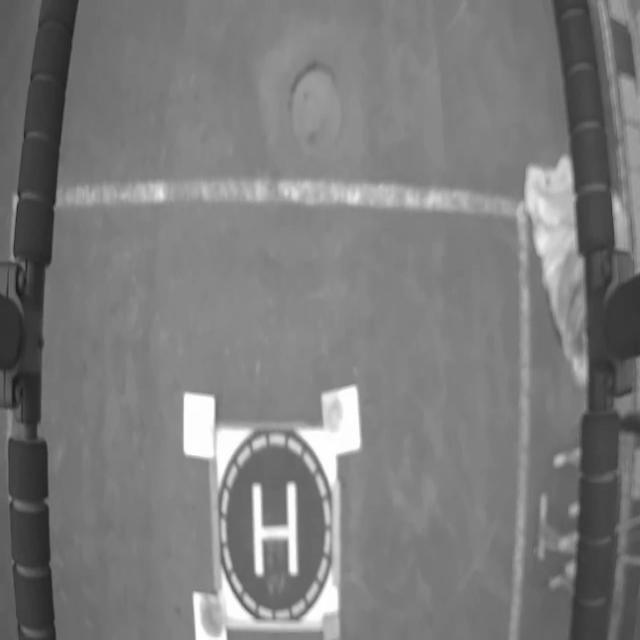Helipad: (253, 480, 300, 582)
